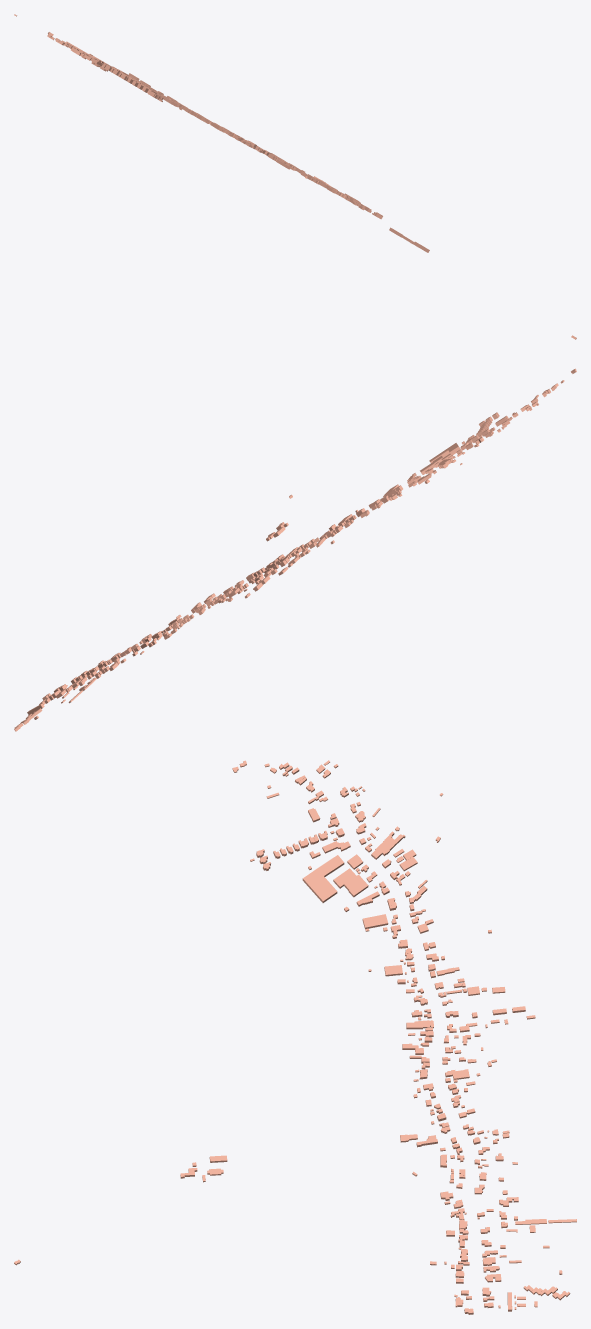
The picture shows the model from 3 angles, top to bottom: view 1: azimuth 30°, elevation 25°; view 2: azimuth 150°, elevation 25°; view 3: azimuth 270°, elevation 25°; orthographic projection. The views are drawn at different scales.
Bounding box in the file's own units: 936 × 737 × 1073.
